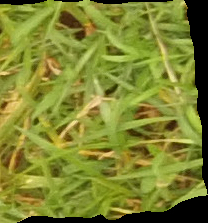grass: (1, 1, 207, 221)
